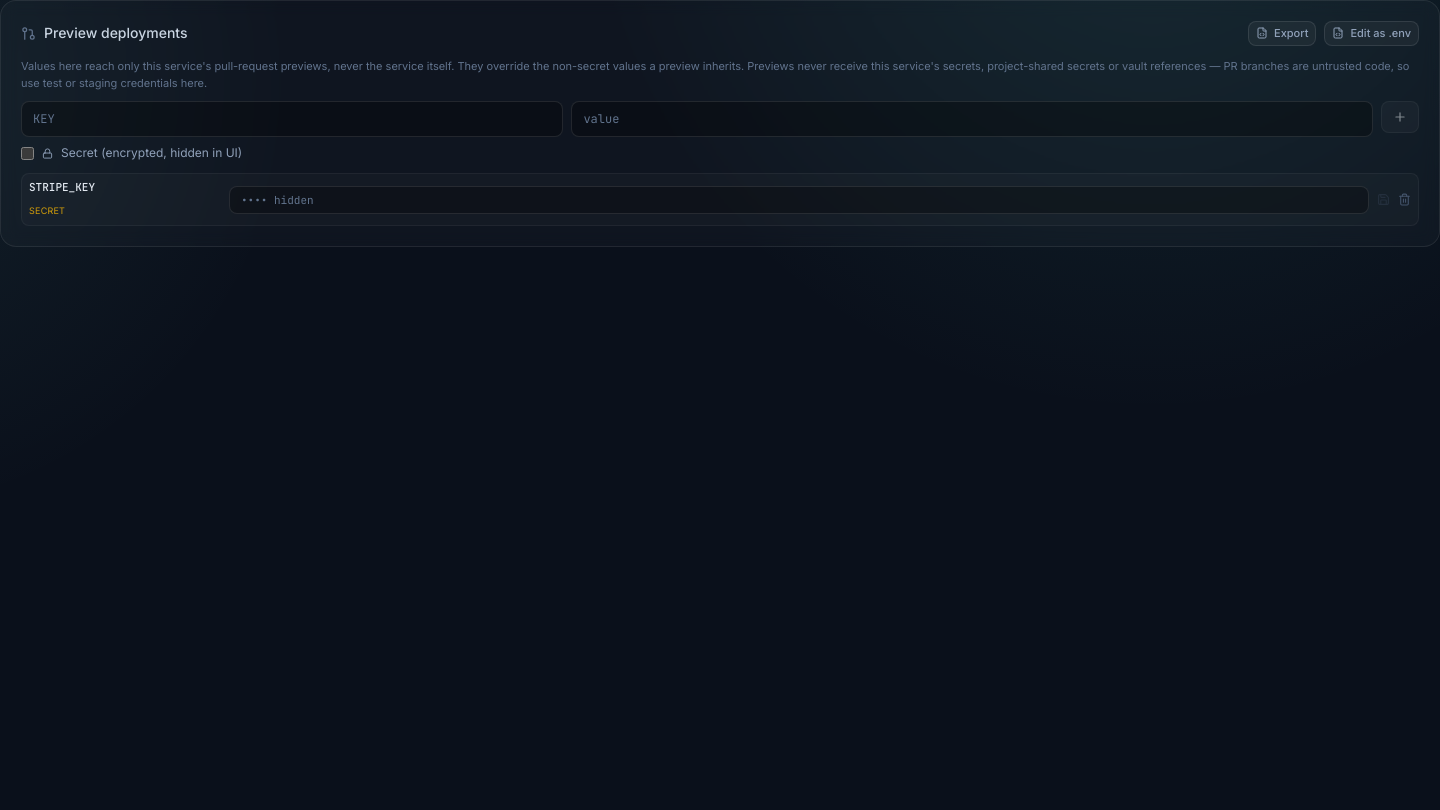
Test: Environment tab — preview deployments section (0.12) › leaves the raw editor with Cancel and reports a failed delete
Check: the text "STRIPE_KEY" is shown, box x1=29 y1=180 x2=95 y2=194
What coordinates should you click on to do the following:
click the button titled "Paste or edit the whole .env file as text"
I would click on:
 (1372, 33)
Its box is x1=1324 y1=21 x2=1419 y2=46.
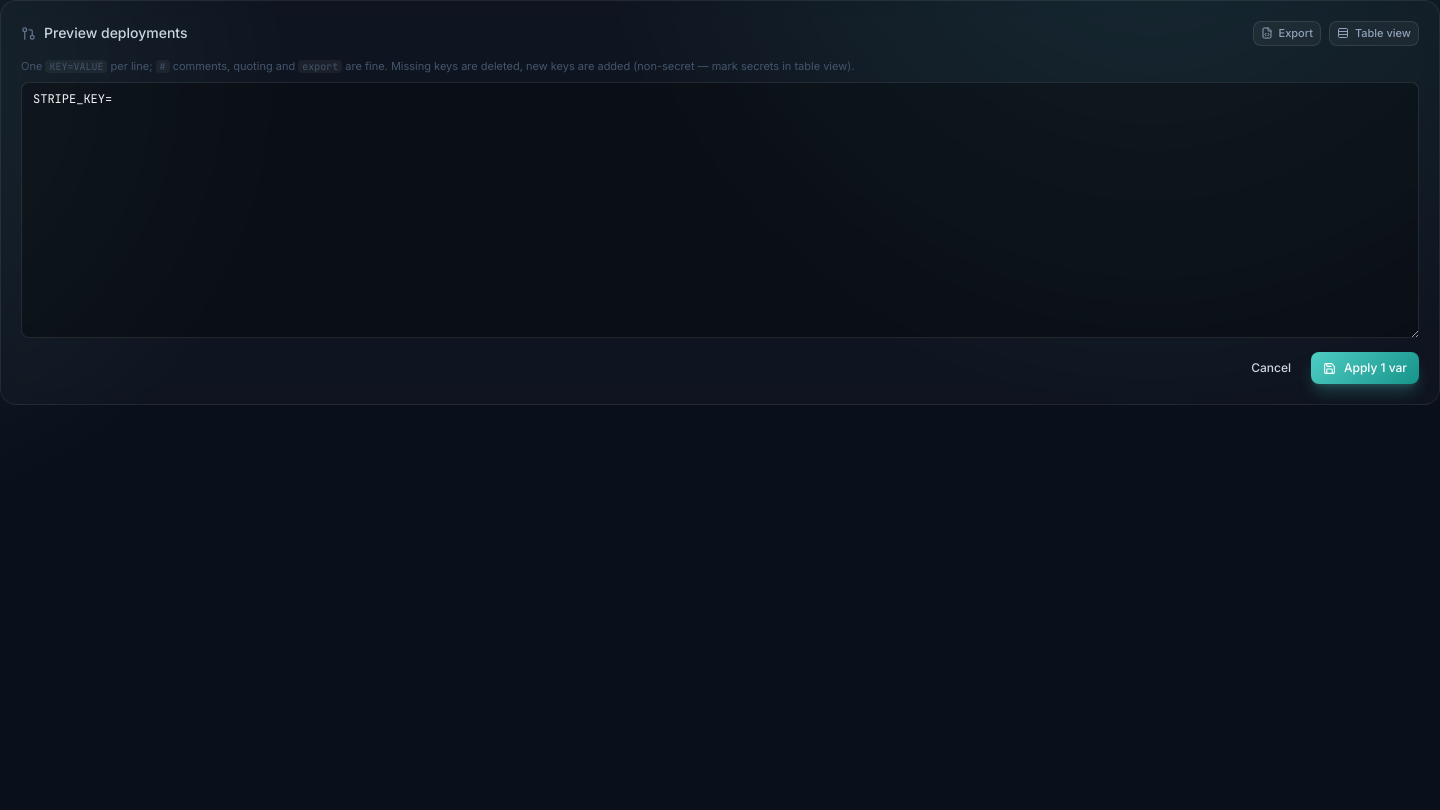
Check: the text box named "Raw .env content" is shown, box x1=21 y1=82 x2=1419 y2=338
What coordinates should you click on to do the following:
click the button "Cancel"
I would click on:
 (1271, 368)
Its box is x1=1239 y1=352 x2=1303 y2=384.
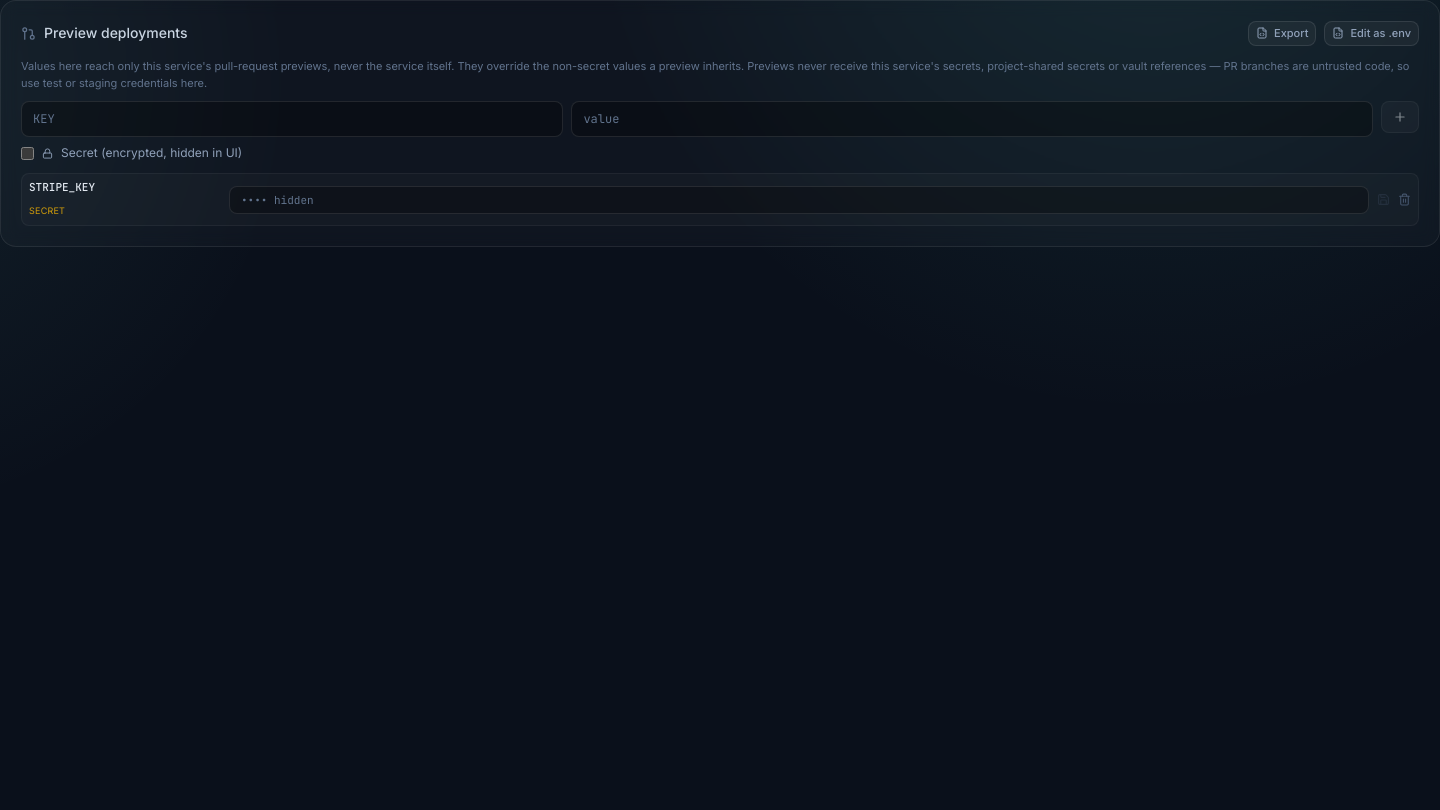
What coordinates should you click on to do the following:
click the button titled "Delete"
I would click on:
 (1404, 200)
Its box is x1=1398 y1=193 x2=1411 y2=206.
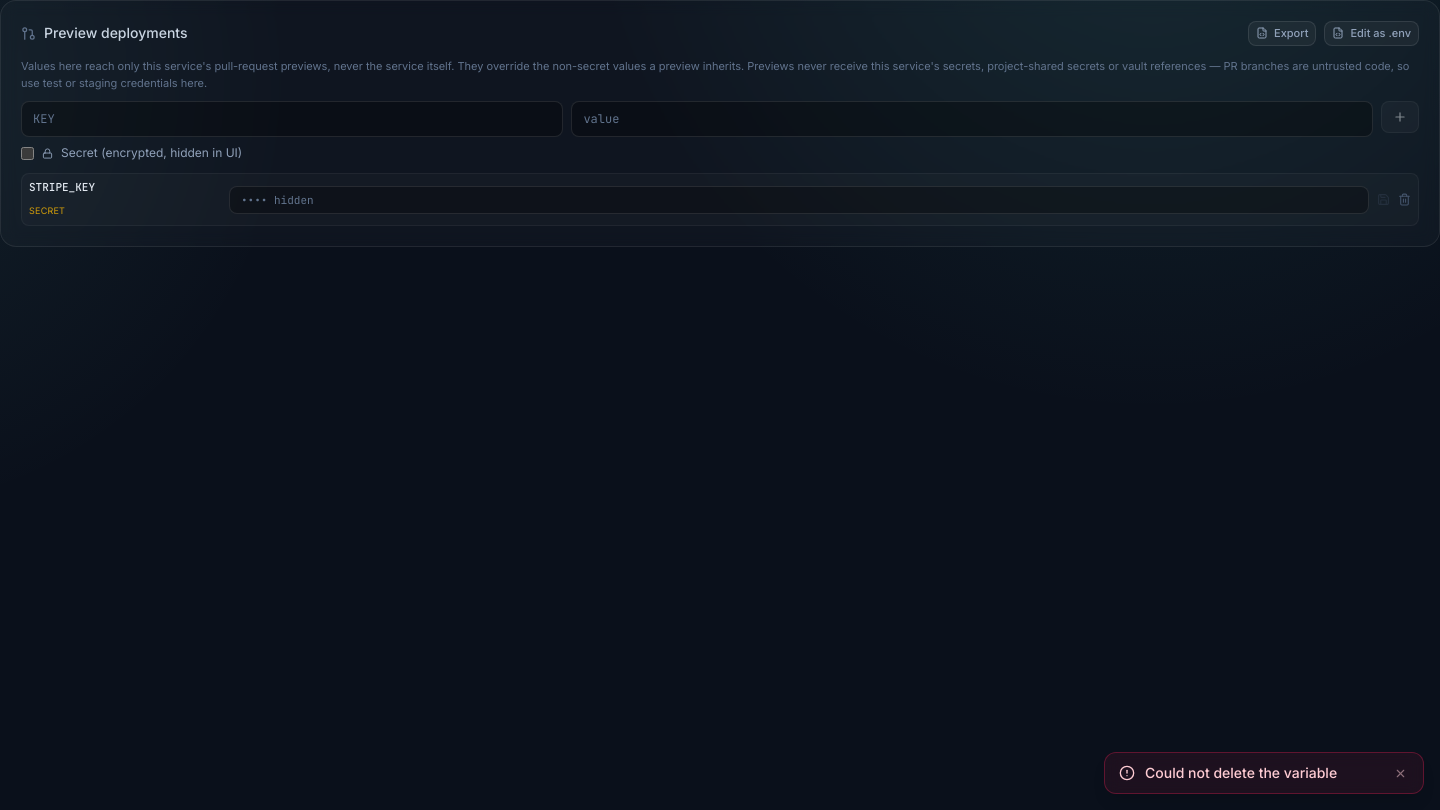
Check: the text "Could not delete the variable" is shown, box x1=1145 y1=764 x2=1337 y2=781
